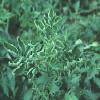Tomato leaf yellow virus: (4, 63, 28, 80), (3, 40, 21, 59), (48, 56, 65, 72), (51, 37, 66, 52), (4, 57, 26, 67), (15, 34, 24, 53), (56, 32, 68, 46), (47, 7, 55, 26), (34, 20, 46, 31), (52, 17, 65, 25)
